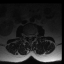CCS_stenosis: (29, 33, 31, 40)
LFS_normal: (33, 33, 34, 38)
LLS_normal: (31, 33, 32, 39)
RFS_normal: (26, 33, 27, 38)
RLS_normal: (27, 33, 29, 39)
